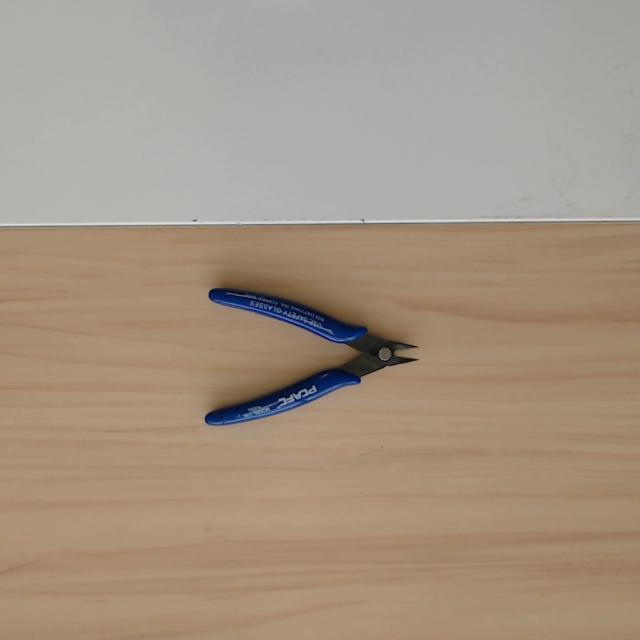Tang-Potong-Biru: (202, 287, 422, 436)
